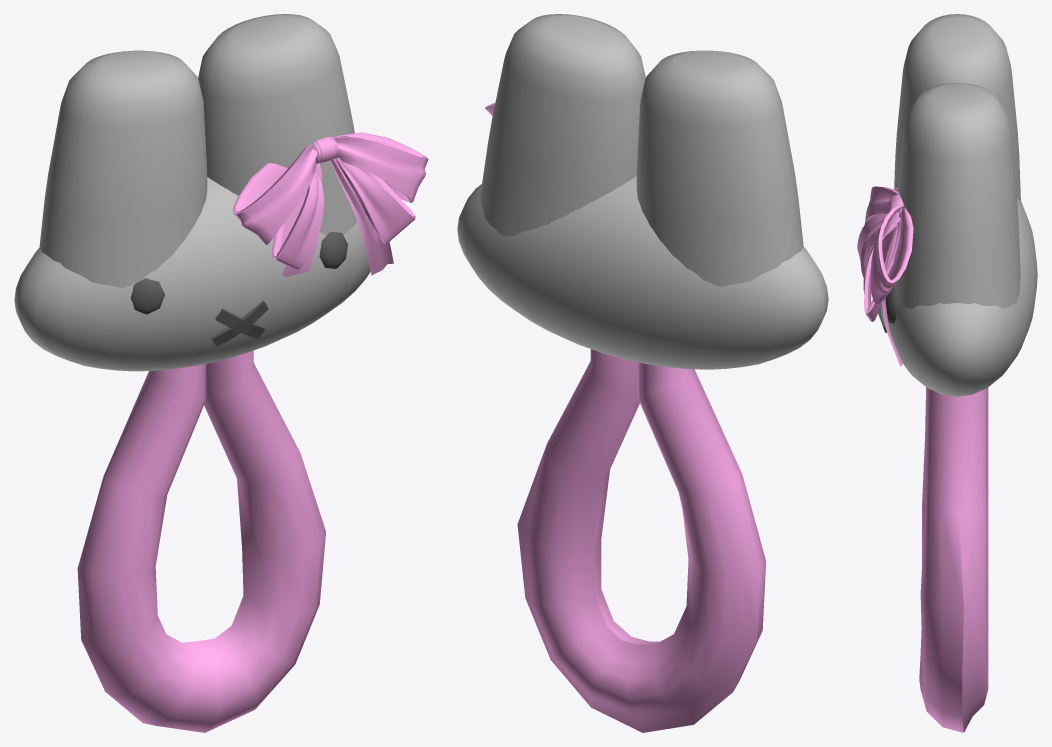
The model's file is Rabbit.fbx.
3 renders of one model, left to right at view 1: azimuth 30°, elevation 25°; view 2: azimuth 150°, elevation 25°; view 3: azimuth 270°, elevation 25°, orthographic. The views are drawn at different scales.
Visible parts, largest first — view 1: Rabbit; view 2: Rabbit; view 3: Rabbit.
Part boxes in pixels (x1=…): Rabbit: x1=14, y1=14, x2=428, y2=732; Rabbit: x1=457, y1=14, x2=828, y2=732; Rabbit: x1=857, y1=14, x2=1037, y2=732.
Size of the model in its own units: 80.32 by 141 by 35.02.
